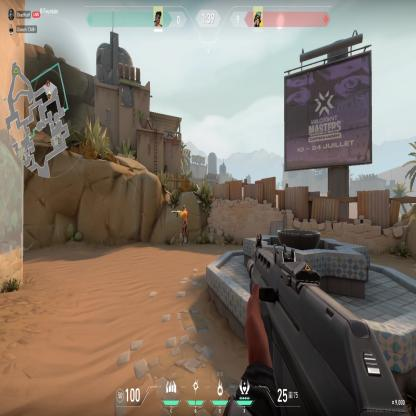enemy: (176, 203, 190, 246)
